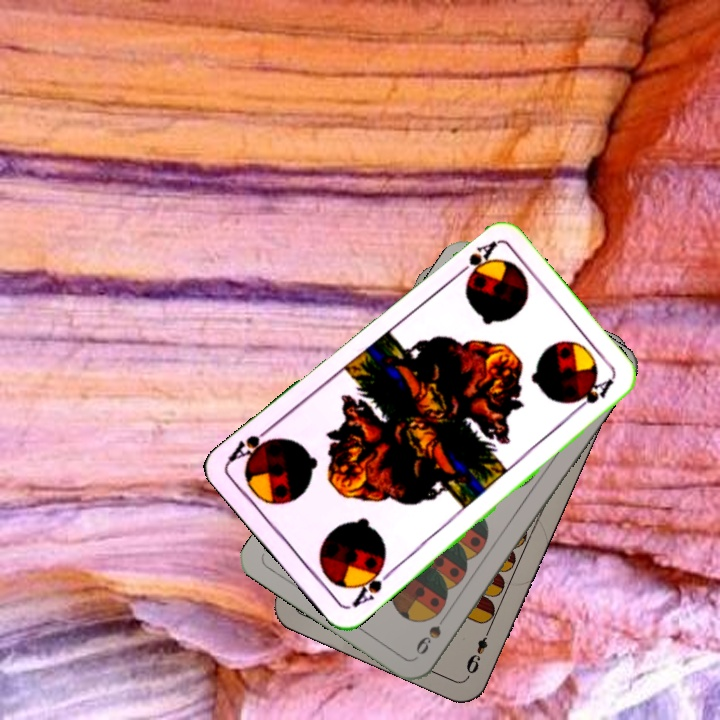E9: (462, 623, 494, 679)
S9: (411, 607, 452, 658)
SA: (348, 559, 395, 611), (450, 237, 499, 281)
